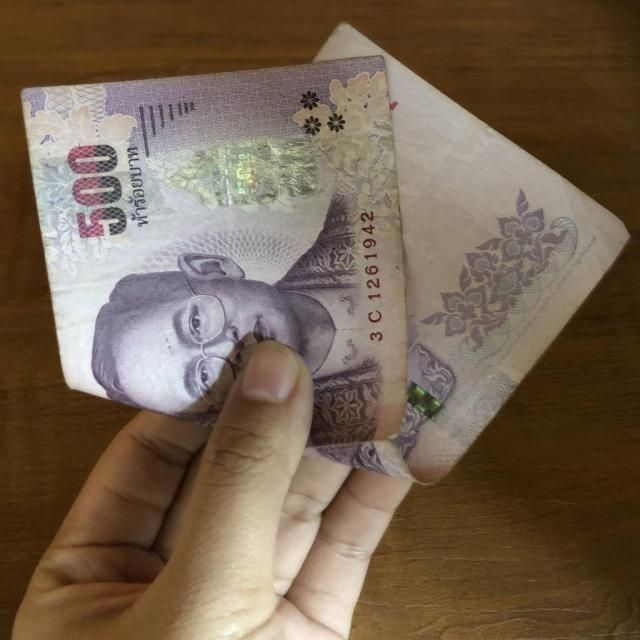THAI500: (22, 44, 627, 481)
